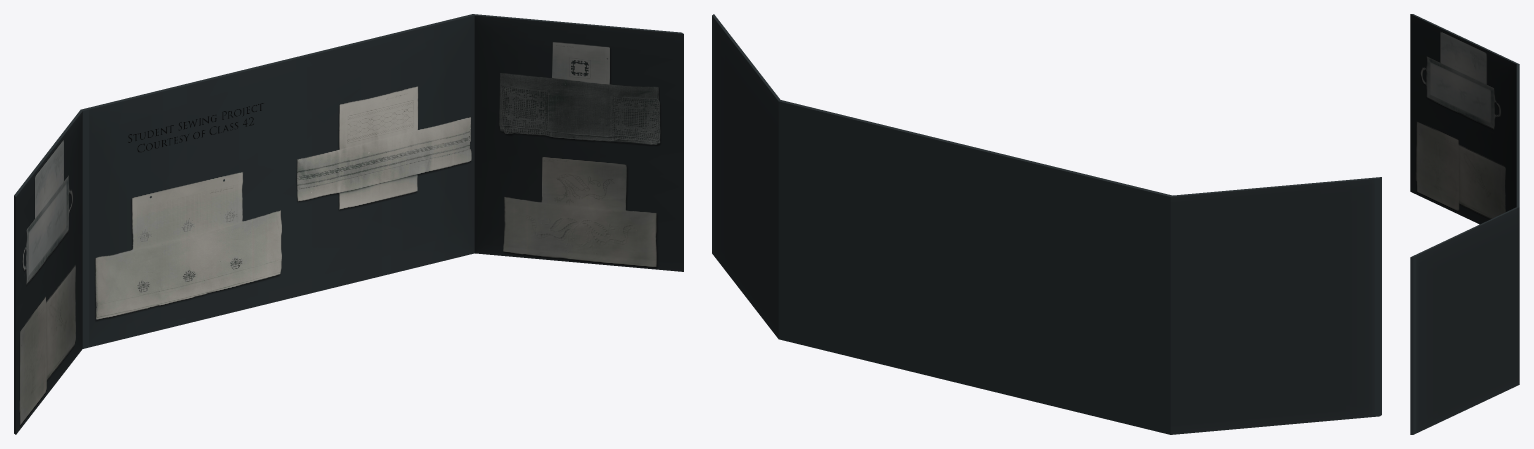
The model's file is student_project.fbx.
3 renders of one model, left to right at view 1: azimuth 30°, elevation 25°; view 2: azimuth 150°, elevation 25°; view 3: azimuth 270°, elevation 25°, orthographic. The views are drawn at different scales.
Visible parts, largest first — view 1: project; view 2: project; view 3: project.
Boxes of the visible parts, x1,y1,x2,y2 form: project: (14, 14, 683, 434); project: (712, 14, 1381, 434); project: (1410, 14, 1519, 434).
Size of the model in its own units: 2.29 by 0.7784 by 0.4348.
